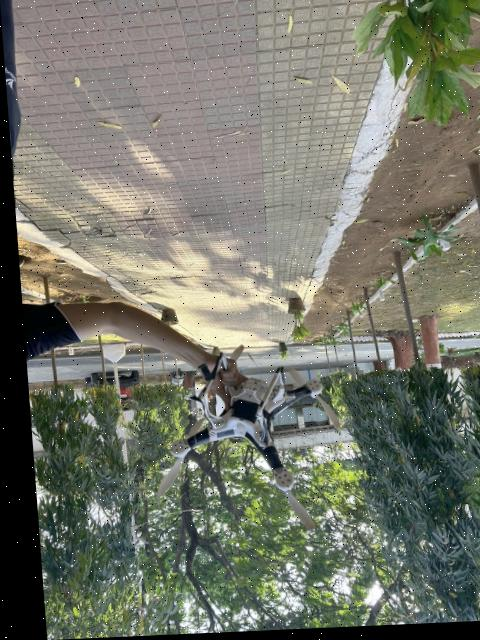drone: (128, 352, 363, 543)
